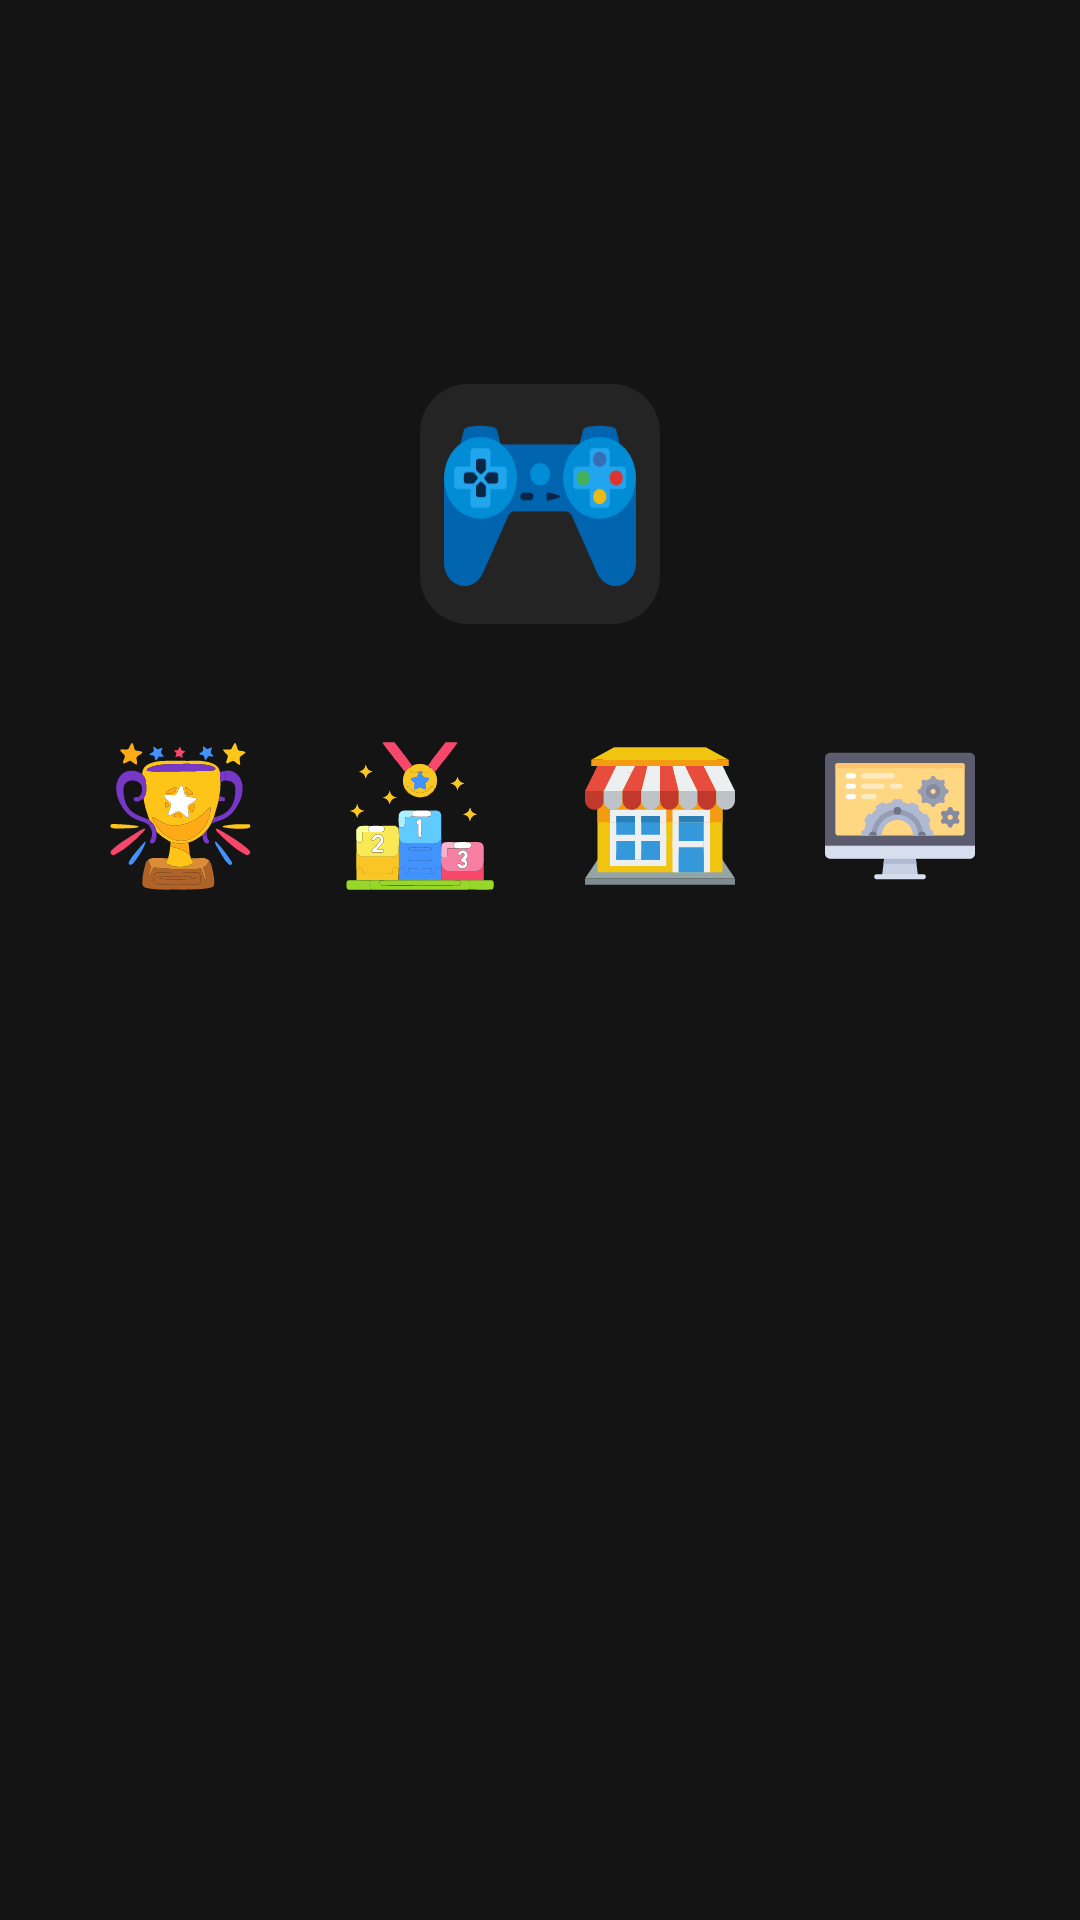

Named icons in this screenshot (1080x1920) and their bounding boxes, (x1, y1, x2, y2):
navigation achievements: (110, 743, 251, 890)
navigation leaderboards: (346, 742, 494, 890)
navigation settings: (825, 753, 975, 880)
navigation shop: (585, 747, 735, 885)
